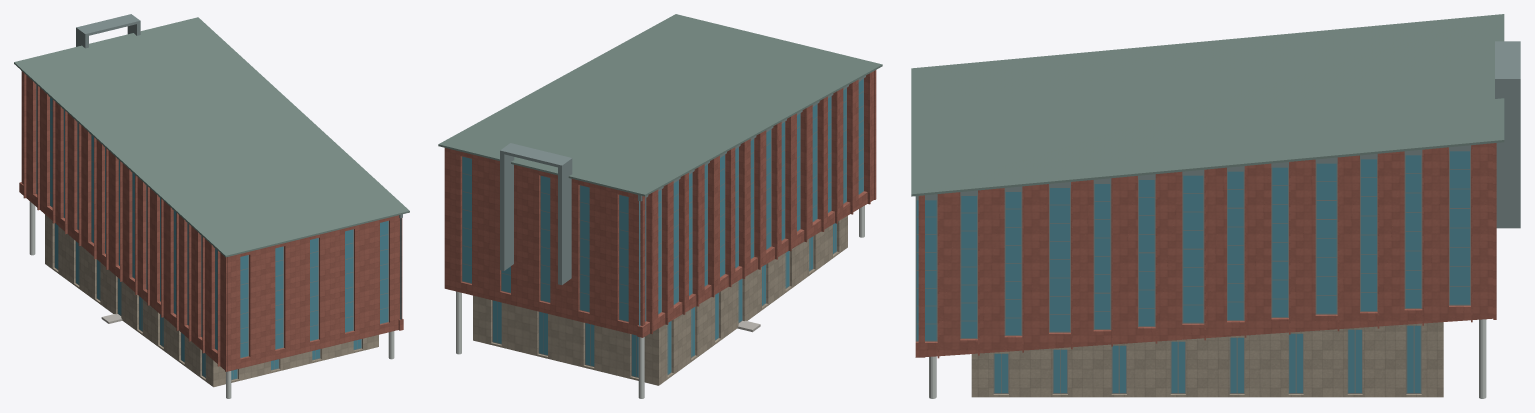
3 views of the same model, side by side, from view 1: azimuth 30°, elevation 25°; view 2: azimuth 150°, elevation 25°; view 3: azimuth 270°, elevation 25° (orthographic). The views are drawn at different scales.
Parts seen in each view (by area): view 1: startup__roof, startup__stone, startup__startupglass, startup__base, startup__frame, startup__metal, startup__column; view 2: startup__stone, startup__roof, startup__startupglass, startup__base, startup__frame, startup__metal, startup__column; view 3: startup__roof, startup__stone, startup__startupglass, startup__base, startup__frame, startup__metal, startup__column.
Part boxes in pixels (x1,y1,x2,y2): startup__roof: (14,17,409,257); startup__stone: (19,71,403,371); startup__startupglass: (36,85,401,379); startup__base: (45,214,378,387); startup__frame: (36,85,401,380); startup__metal: (21,14,402,249); startup__column: (29,201,394,398); startup__stone: (444,70,876,337); startup__roof: (438,14,882,196); startup__startupglass: (462,79,863,377); startup__base: (473,216,847,385); startup__frame: (462,78,863,377); startup__metal: (500,75,865,284); startup__column: (456,205,864,398); startup__roof: (911,14,1504,196); startup__stone: (915,143,1496,358); startup__startupglass: (916,151,1469,392); startup__base: (971,322,1443,397); startup__frame: (915,151,1470,393); startup__metal: (915,41,1520,228); startup__column: (929,319,1486,398).
Size of the model in its own units: 21.89 by 22.52 by 43.81.
8 materials, 2 textured.
